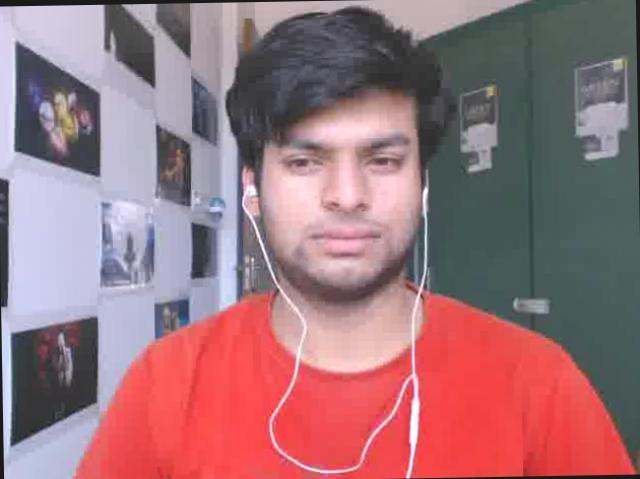bingung: (260, 90, 422, 288)
